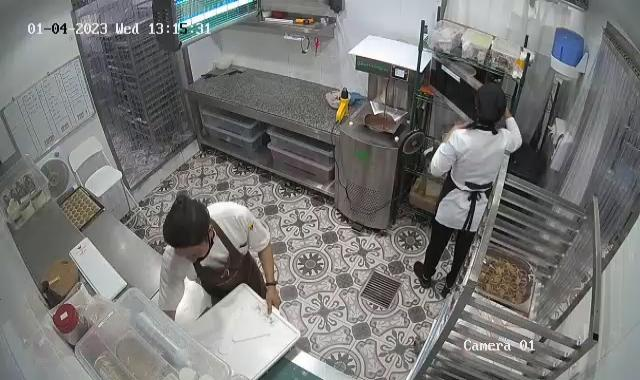no_hairnet: (161, 188, 213, 251), (471, 80, 509, 123)
